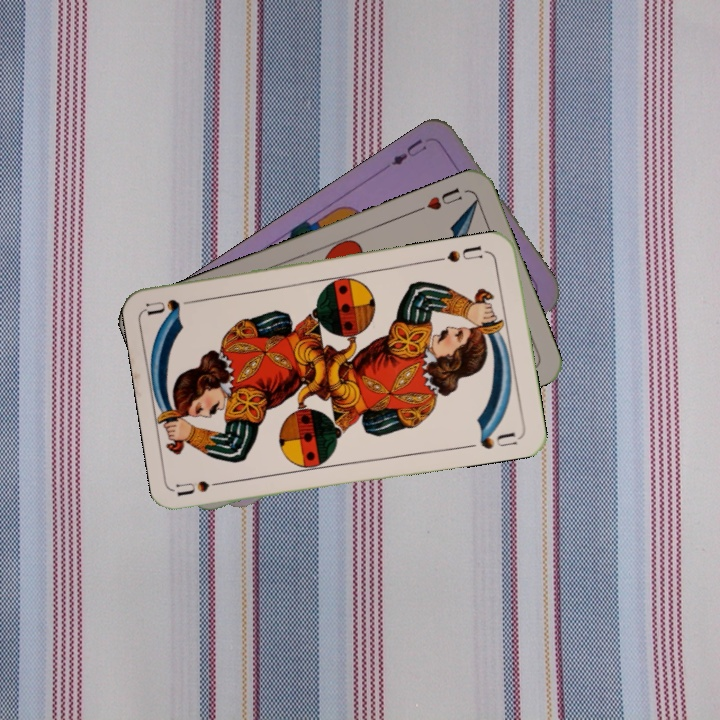EU: (387, 134, 430, 168)
HU: (412, 184, 465, 215)
SU: (174, 476, 234, 498), (432, 241, 485, 265)
